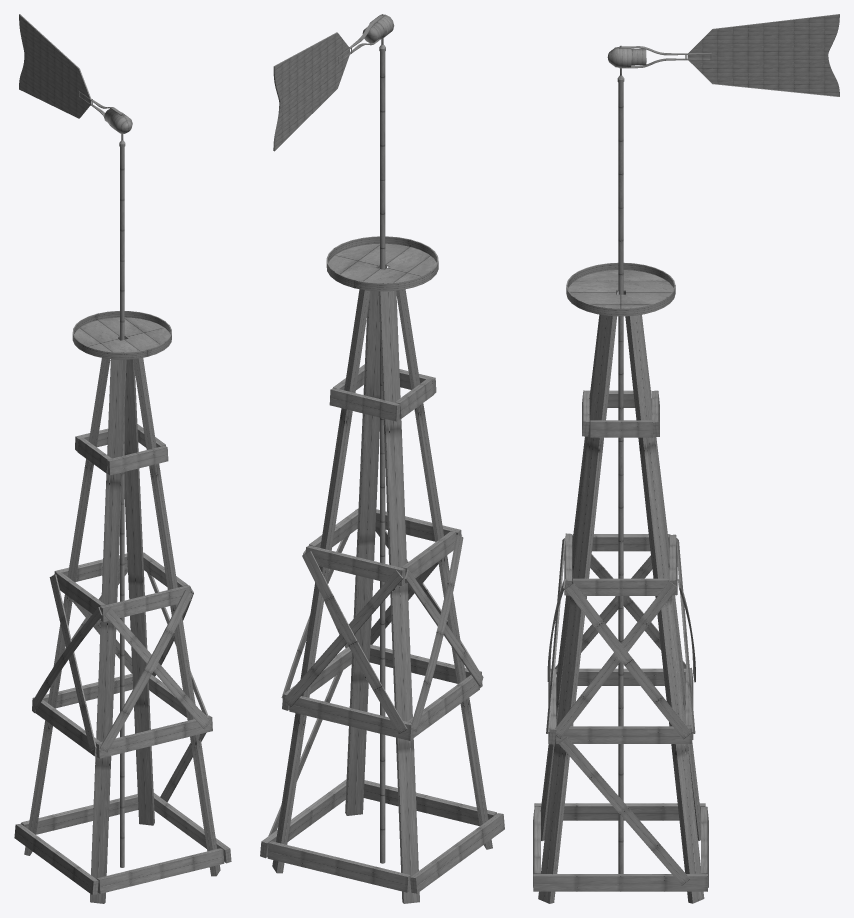
File: torre_molino.obj
3 renders of one model, left to right at view 1: azimuth 30°, elevation 25°; view 2: azimuth 150°, elevation 25°; view 3: azimuth 270°, elevation 25°, orthographic. The views are drawn at different scales.
Parts seen in each view (by area): view 1: molino_viento:base, molino_viento:girouette, molino_viento:shaft; view 2: molino_viento:base, molino_viento:girouette, molino_viento:shaft; view 3: molino_viento:base, molino_viento:girouette, molino_viento:shaft.
Boxes of the visible parts, x1,y1,x2,y2 form: molino_viento:base: [14, 311, 231, 903]; molino_viento:girouette: [19, 14, 132, 133]; molino_viento:shaft: [119, 113, 125, 867]; molino_viento:base: [260, 236, 504, 903]; molino_viento:girouette: [273, 14, 394, 151]; molino_viento:shaft: [379, 14, 385, 863]; molino_viento:base: [533, 262, 708, 903]; molino_viento:girouette: [607, 14, 839, 96]; molino_viento:shaft: [617, 45, 624, 873].
Bounding box in the file's own units: 139 × 737 × 239.
3 materials, 3 textured.
